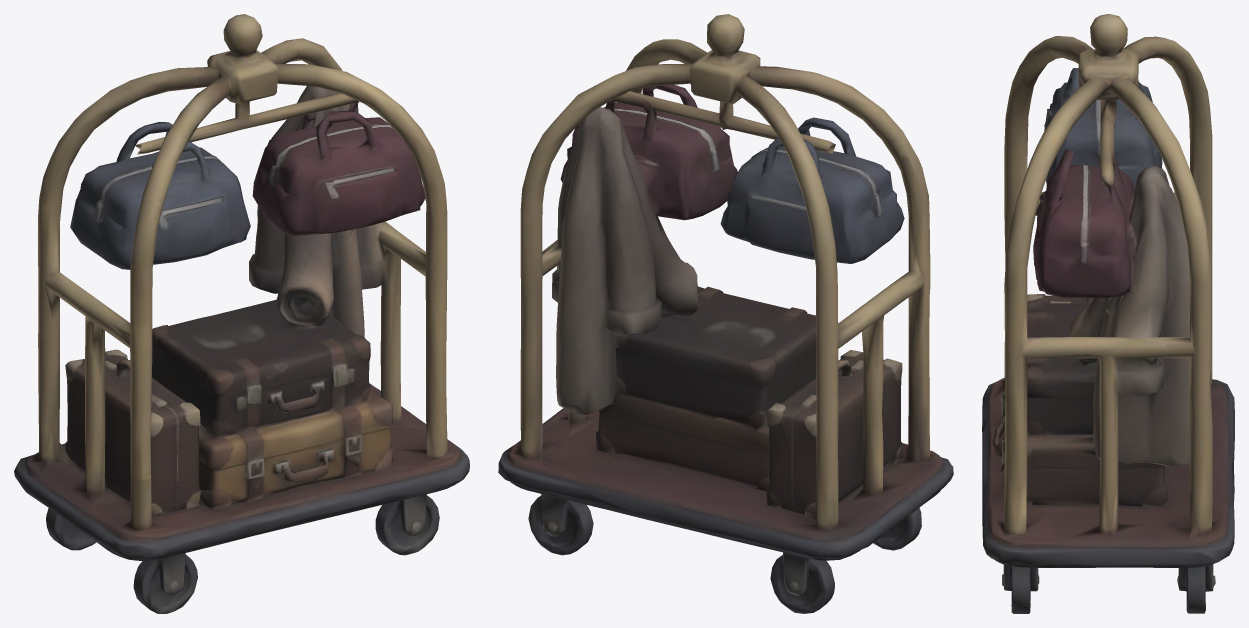
Rendered from hotel_trolley.glb.
The picture shows the model from 3 angles, left to right: view 1: azimuth 30°, elevation 25°; view 2: azimuth 150°, elevation 25°; view 3: azimuth 270°, elevation 25°; orthographic projection.
Parts seen in each view (by area): view 1: tripo_node_9f844d0b-3733-403b-bffa-b1d0b6c92cf7; view 2: tripo_node_9f844d0b-3733-403b-bffa-b1d0b6c92cf7; view 3: tripo_node_9f844d0b-3733-403b-bffa-b1d0b6c92cf7.
Boxes of the visible parts, x1,y1,x2,y2 form: tripo_node_9f844d0b-3733-403b-bffa-b1d0b6c92cf7: (14, 14, 469, 613); tripo_node_9f844d0b-3733-403b-bffa-b1d0b6c92cf7: (498, 14, 953, 613); tripo_node_9f844d0b-3733-403b-bffa-b1d0b6c92cf7: (982, 14, 1234, 613).
Bounding box in the file's own units: 0.7075 × 1 × 0.4278.
Materials: 1 (1 with a texture image).
